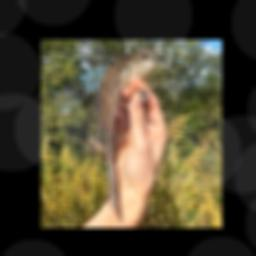Cuckoo: (92, 47, 166, 221)
